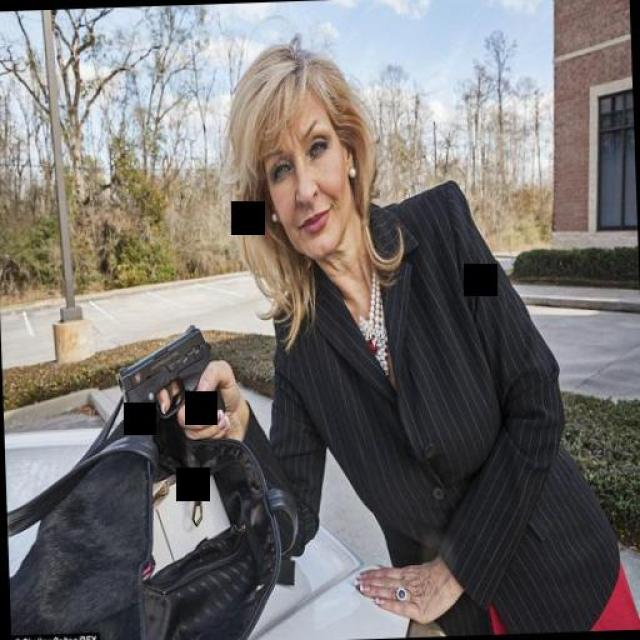gun: (111, 316, 225, 419)
